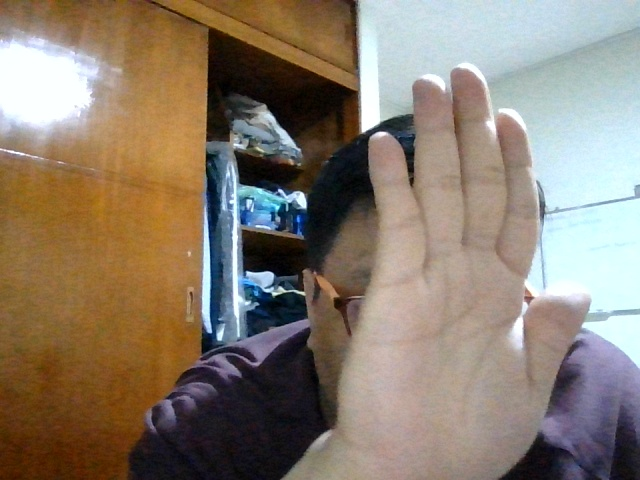hola: (356, 63, 590, 475)
